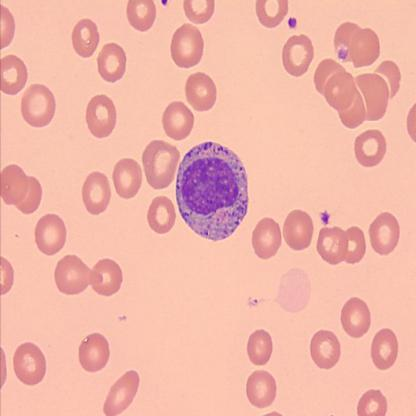Myelocyte: (177, 141, 248, 241)
